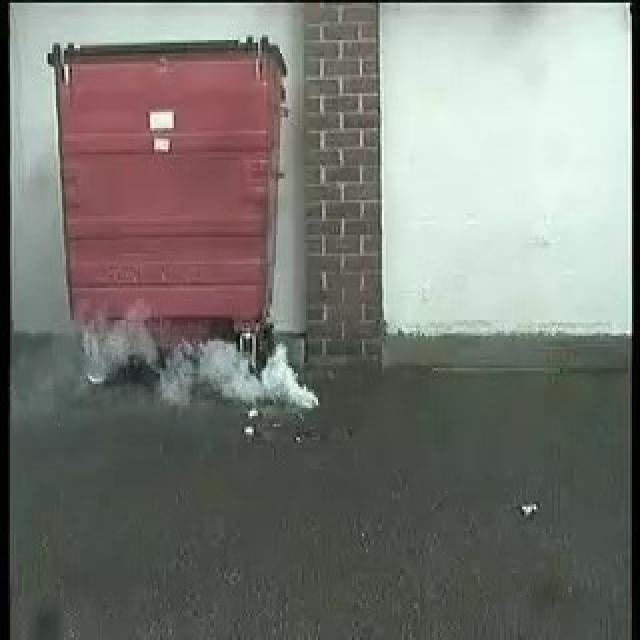smoke: (83, 313, 314, 409)
